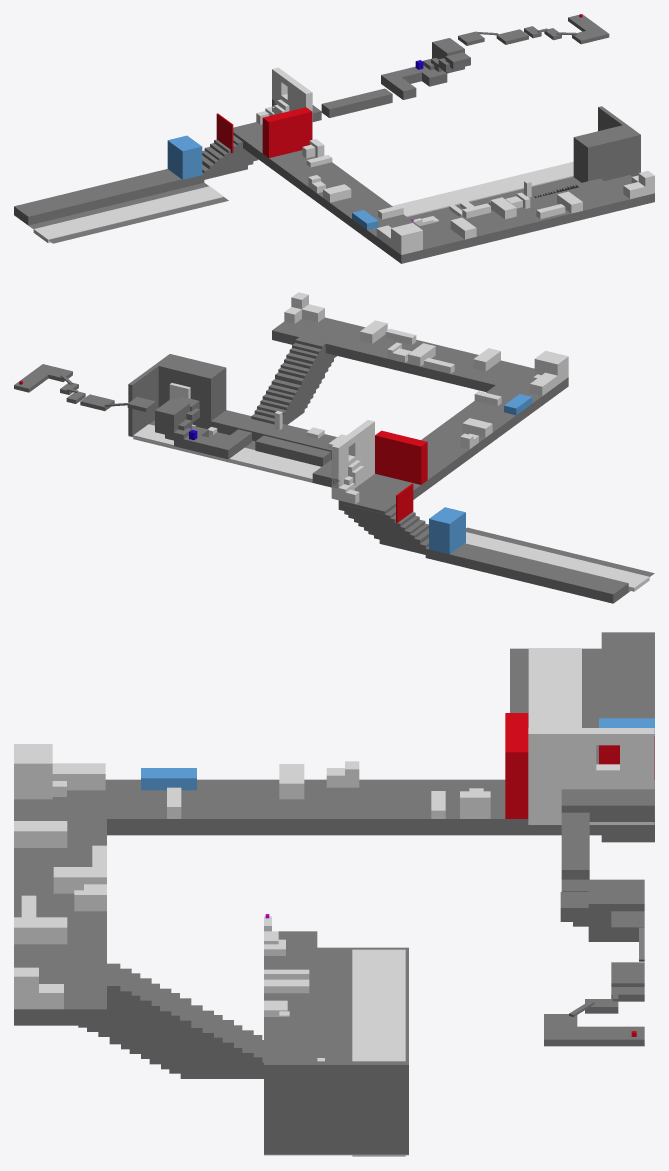
Rendered from GreyBox_Metro.fbx.
3 renders of one model, top to bottom at view 1: azimuth 30°, elevation 25°; view 2: azimuth 150°, elevation 25°; view 3: azimuth 270°, elevation 25°, orthographic. The views are drawn at different scales.
Parts seen in each view (by area): view 1: Cube.008, Cube.007, Cube.016, Cube.001, Cube.068, Cube.067, Cube.011, suelo.001, Cube.042, Cube.072, Cube.026, Cube.015 (+12 smaller); view 2: Cube.008, Cube.007, Cube.016, Cube.034, Cube.001, Cube.011, Cube.042, Cube.068, Cube.067, Cube.026, Cube, Cube.072 (+13 smaller); view 3: Cube.008, Cube.002, Cube.007, Cube.034, Cube.026, Cube.067, suelo, Cube.016, Cube.068, suelo.001, Cube.014, Cube (+18 smaller).
Boxes of the visible parts, x1=… form: Cube.008: x1=233, y1=122, x2=444, y2=263; Cube.007: x1=420, y1=175, x2=654, y2=253; Cube.016: x1=14, y1=169, x2=204, y2=225; Cube.001: x1=573, y1=125, x2=637, y2=182; Cube.068: x1=33, y1=186, x2=223, y2=242; Cube.067: x1=392, y1=161, x2=573, y2=216; Cube.011: x1=262, y1=107, x2=312, y2=157; suelo.001: x1=29, y1=182, x2=228, y2=243; Cube.042: x1=202, y1=135, x2=258, y2=179; Cube.072: x1=167, y1=135, x2=202, y2=179; Cube.026: x1=272, y1=67, x2=312, y2=139; Cube.015: x1=321, y1=88, x2=392, y2=117; Cube.008: x1=338, y1=365, x2=568, y2=514; Cube.007: x1=272, y1=317, x2=521, y2=391; Cube.016: x1=425, y1=543, x2=628, y2=603; Cube.034: x1=251, y1=320, x2=346, y2=424; Cube.001: x1=158, y1=355, x2=226, y2=429; Cube.011: x1=375, y1=430, x2=427, y2=484; Cube.042: x1=344, y1=504, x2=428, y2=554; Cube.068: x1=465, y1=532, x2=649, y2=591; Cube.067: x1=133, y1=424, x2=320, y2=482; Cube.026: x1=331, y1=420, x2=374, y2=500; Cube: x1=211, y1=410, x2=336, y2=459; Cube.072: x1=429, y1=507, x2=465, y2=554; Cube.008: x1=14, y1=779, x2=654, y2=835; Cube.002: x1=264, y1=1061, x2=408, y2=1154; Cube.007: x1=14, y1=819, x2=106, y2=1025; Cube.034: x1=34, y1=963, x2=263, y2=1078; Cube.026: x1=528, y1=728, x2=654, y2=824; Cube.067: x1=352, y1=949, x2=405, y2=1156; suelo: x1=264, y1=947, x2=408, y2=1155; Cube.016: x1=601, y1=632, x2=654, y2=718; Cube.068: x1=528, y1=648, x2=581, y2=727; suelo.001: x1=510, y1=648, x2=601, y2=764; Cube.014: x1=561, y1=789, x2=654, y2=821; Cube: x1=264, y1=931, x2=317, y2=1016.
Size of the model in its own units: 14120 by 2487 by 7473.
